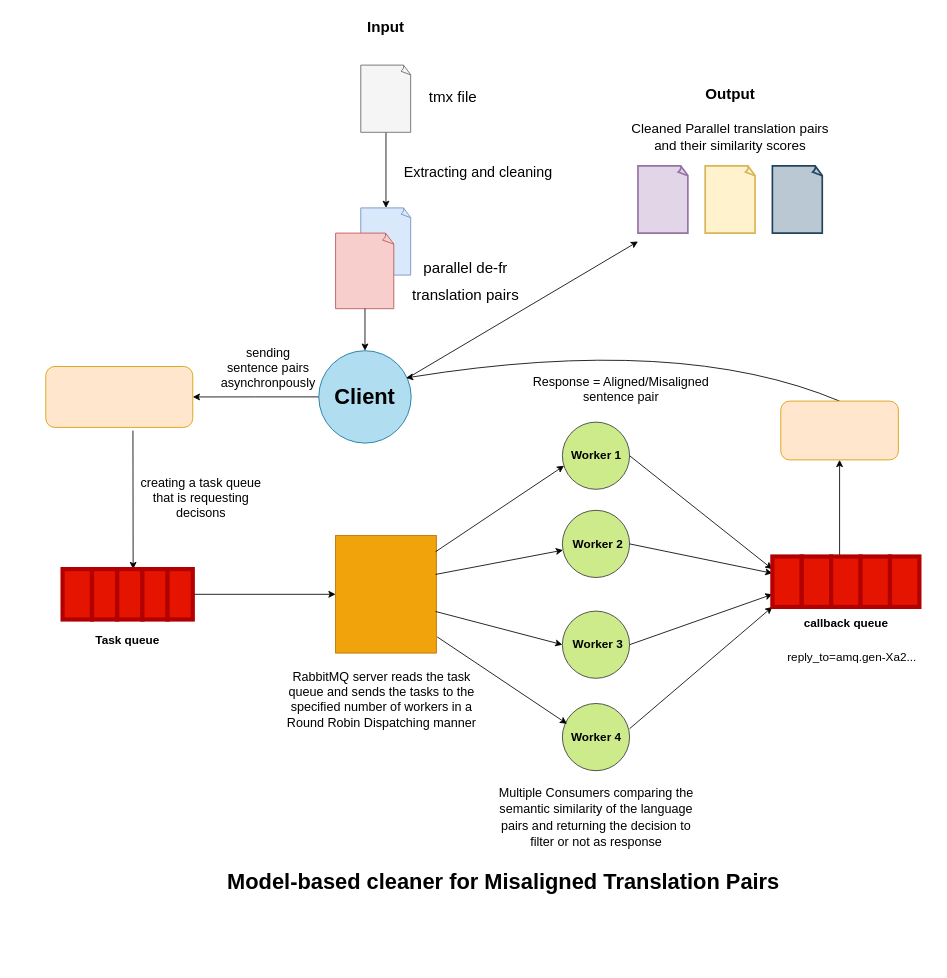
Image size: 947x978. Some labels were removed from this diagram. The centre of each missing label's shape, as x and y in pixels:
RabbitMQ Broker: (x=385, y=594)
Reply correlation_id=abc: (x=839, y=430)
Request reply_to=amqp.gen-Xa2... correlation_id=abc: (x=119, y=396)
